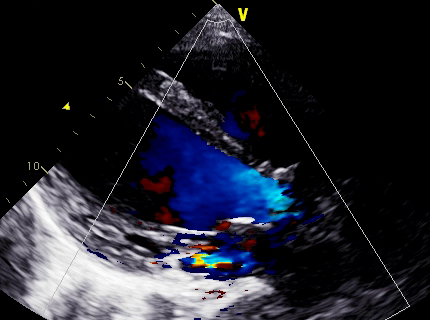MR: (191, 219, 259, 286)
